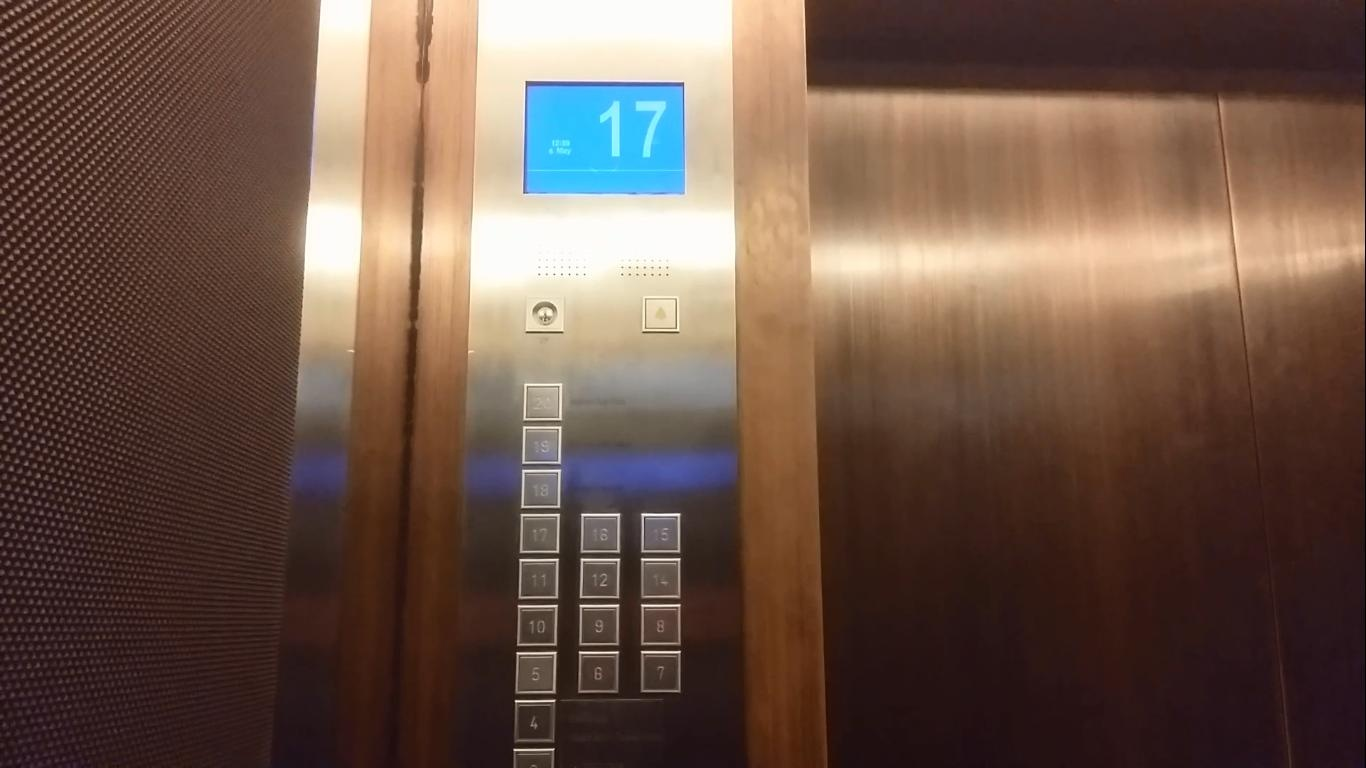10: (517, 605, 557, 646)
11: (518, 559, 560, 599)
12: (580, 558, 620, 599)
14: (641, 558, 682, 599)
15: (640, 512, 681, 553)
16: (580, 513, 621, 553)
17: (519, 513, 560, 553)
18: (521, 470, 562, 508)
19: (522, 426, 563, 464)
4: (514, 700, 556, 743)
5: (515, 651, 556, 693)
6: (578, 651, 619, 693)
7: (641, 651, 680, 692)
8: (641, 604, 680, 645)
9: (579, 605, 619, 645)
alarm: (642, 297, 679, 333)
blur: (522, 383, 563, 422)
keyhole: (525, 296, 565, 333)
led: (523, 81, 685, 196)
